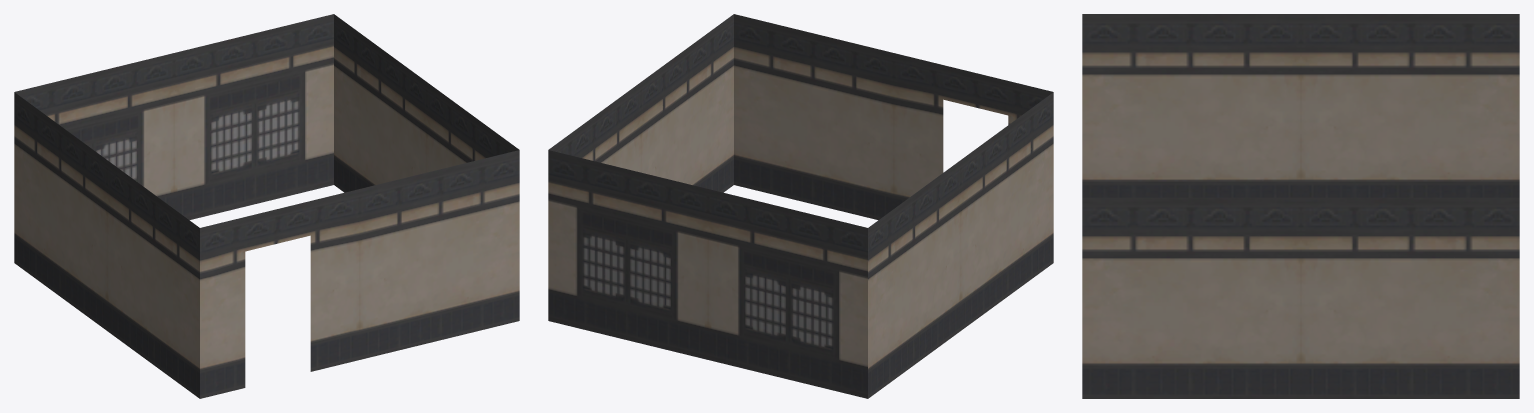
Rendered from Homeworld_Interior_Dq_Room_A_Filling_01_Vo.fbx.
3 views of the same model, side by side, from view 1: azimuth 30°, elevation 25°; view 2: azimuth 150°, elevation 25°; view 3: azimuth 270°, elevation 25° (orthographic). The views are drawn at different scales.
Visible parts, largest first — view 1: Homeworld_Interior_Dq_Room_A_Filling_01_Vo; view 2: Homeworld_Interior_Dq_Room_A_Filling_01_Vo; view 3: Homeworld_Interior_Dq_Room_A_Filling_01_Vo.
Part boxes in pixels (box(x1,y1,x2,y2)): Homeworld_Interior_Dq_Room_A_Filling_01_Vo: box(14, 14, 519, 398); Homeworld_Interior_Dq_Room_A_Filling_01_Vo: box(548, 14, 1053, 398); Homeworld_Interior_Dq_Room_A_Filling_01_Vo: box(1082, 14, 1519, 398).
Size of the model in its own units: 9.75 by 4.98 by 9.81.
